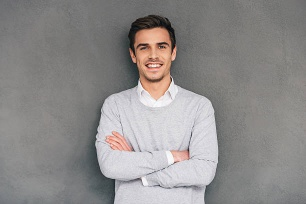male: (126, 22, 179, 80)
